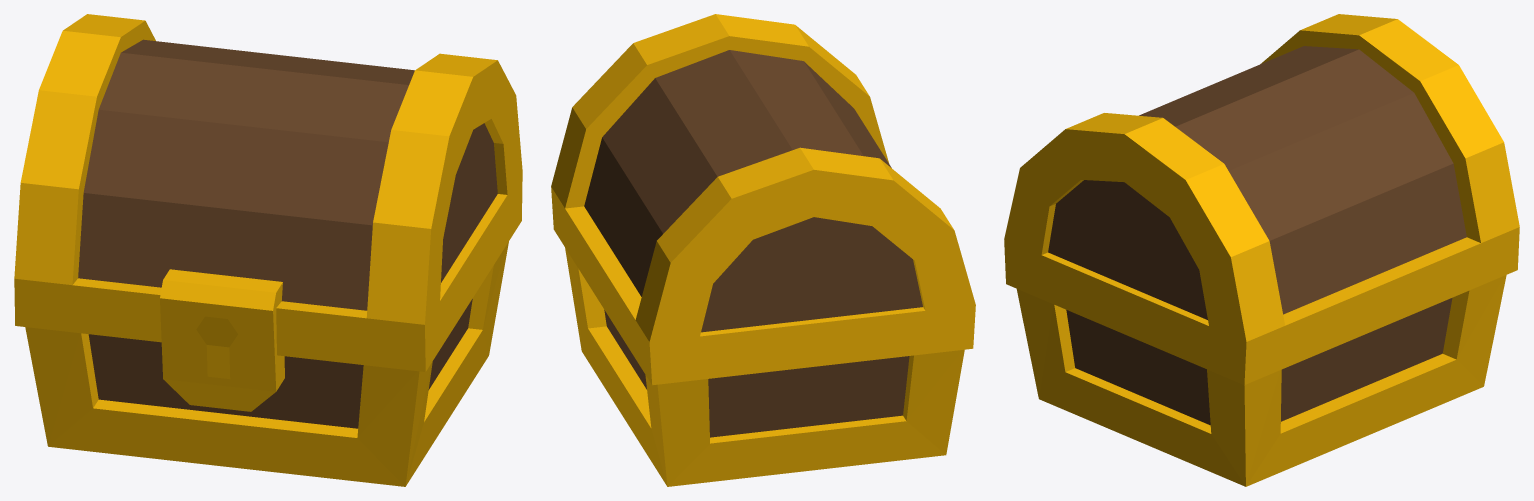
The model's file is Treasure.fbx.
3 views of the same model, side by side, from view 1: azimuth 30°, elevation 25°; view 2: azimuth 150°, elevation 25°; view 3: azimuth 270°, elevation 25° (orthographic). The views are drawn at different scales.
Visible parts, largest first — view 1: Treasure; view 2: Treasure; view 3: Treasure.
Boxes of the visible parts, left/top/right/bottom form: Treasure: left=14, top=14, right=522, bottom=486; Treasure: left=551, top=14, right=975, bottom=486; Treasure: left=1004, top=14, right=1519, bottom=486.
Size of the model in its own units: 51.53 by 34.89 by 51.53.
